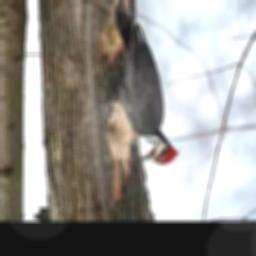Woodpecker: (103, 0, 178, 165)
